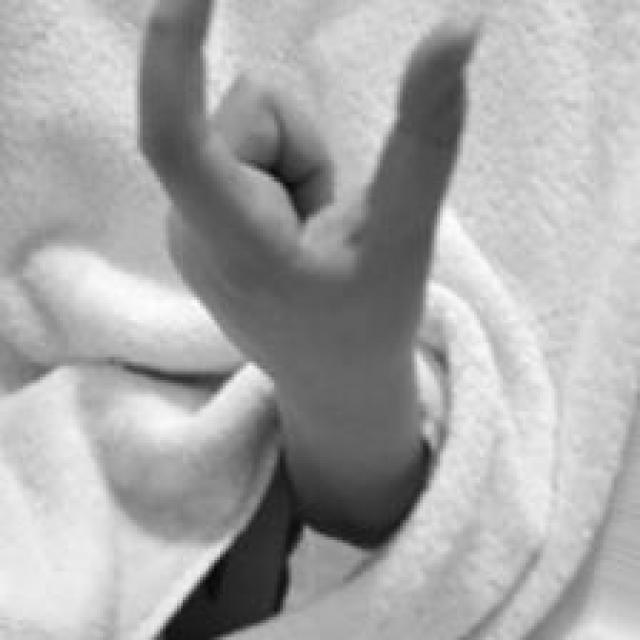U: (133, 0, 484, 386)
